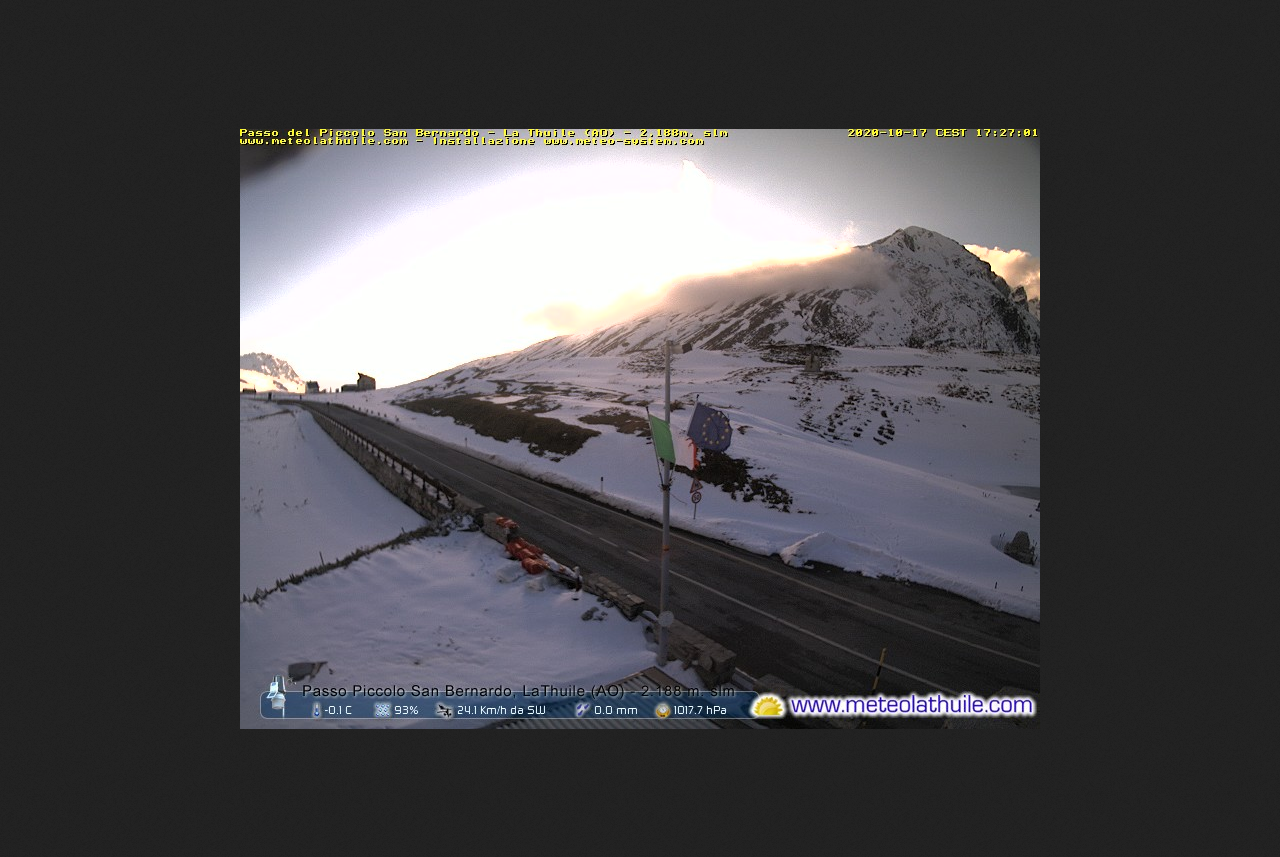yes: (638, 401, 710, 478), (682, 398, 738, 459)
